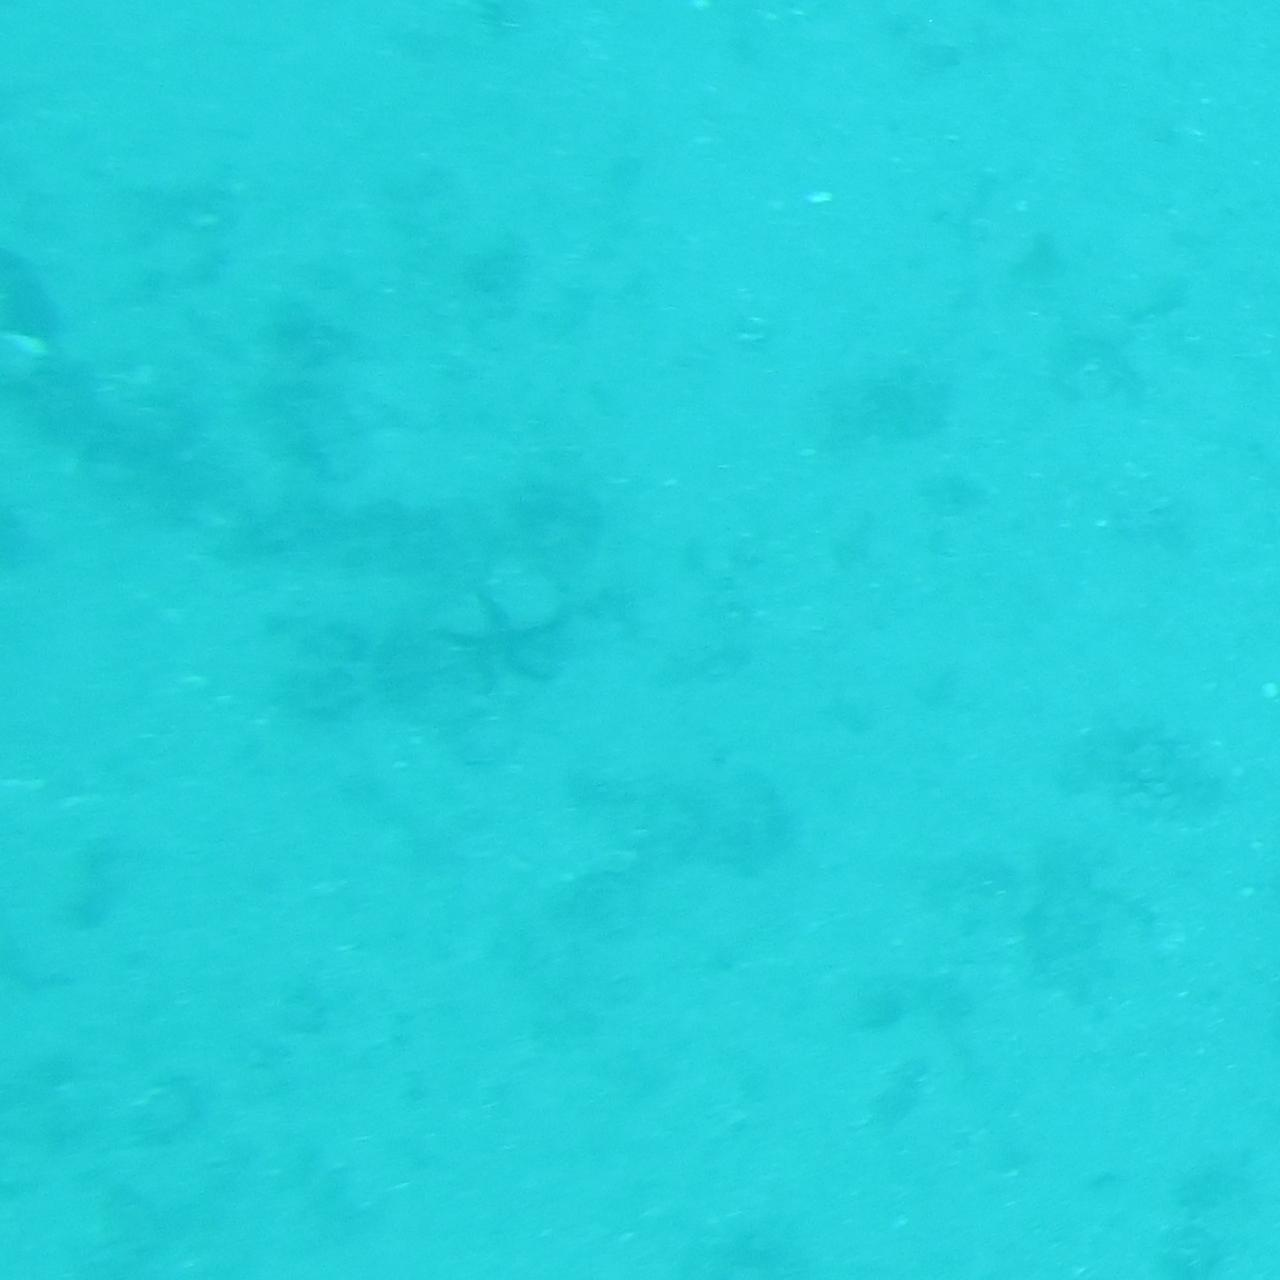Asteroidea: (435, 568, 586, 712)
